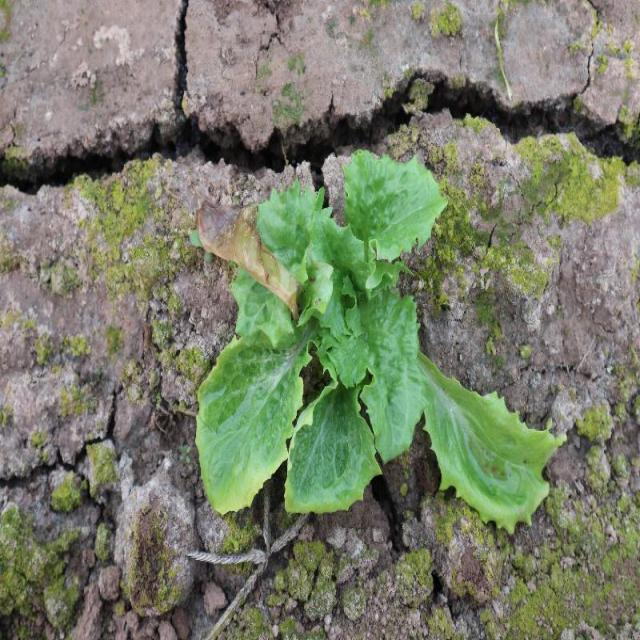crop: (199, 154, 445, 510)
